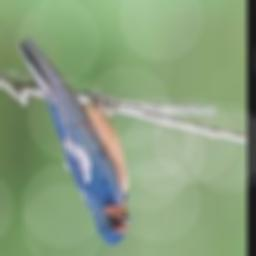Swallow: (19, 38, 132, 243)
